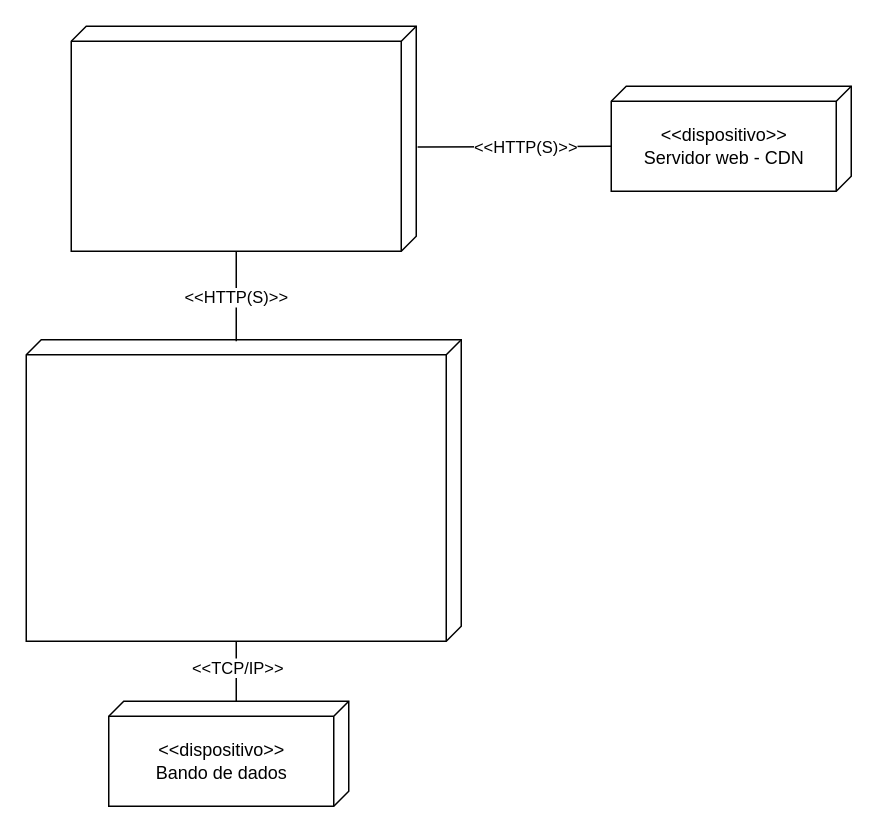
Some shapes in this 878 by 833 pixel diagram are drawn without their labels. Here are the shapes that lost their labels. From the top down, the box of each, then its label:
(70, 25, 416, 251): <<dispositivo>> Cliente
(25, 338, 461, 641): <<dispositivo>> Server da aplicação - Máquina virtual
